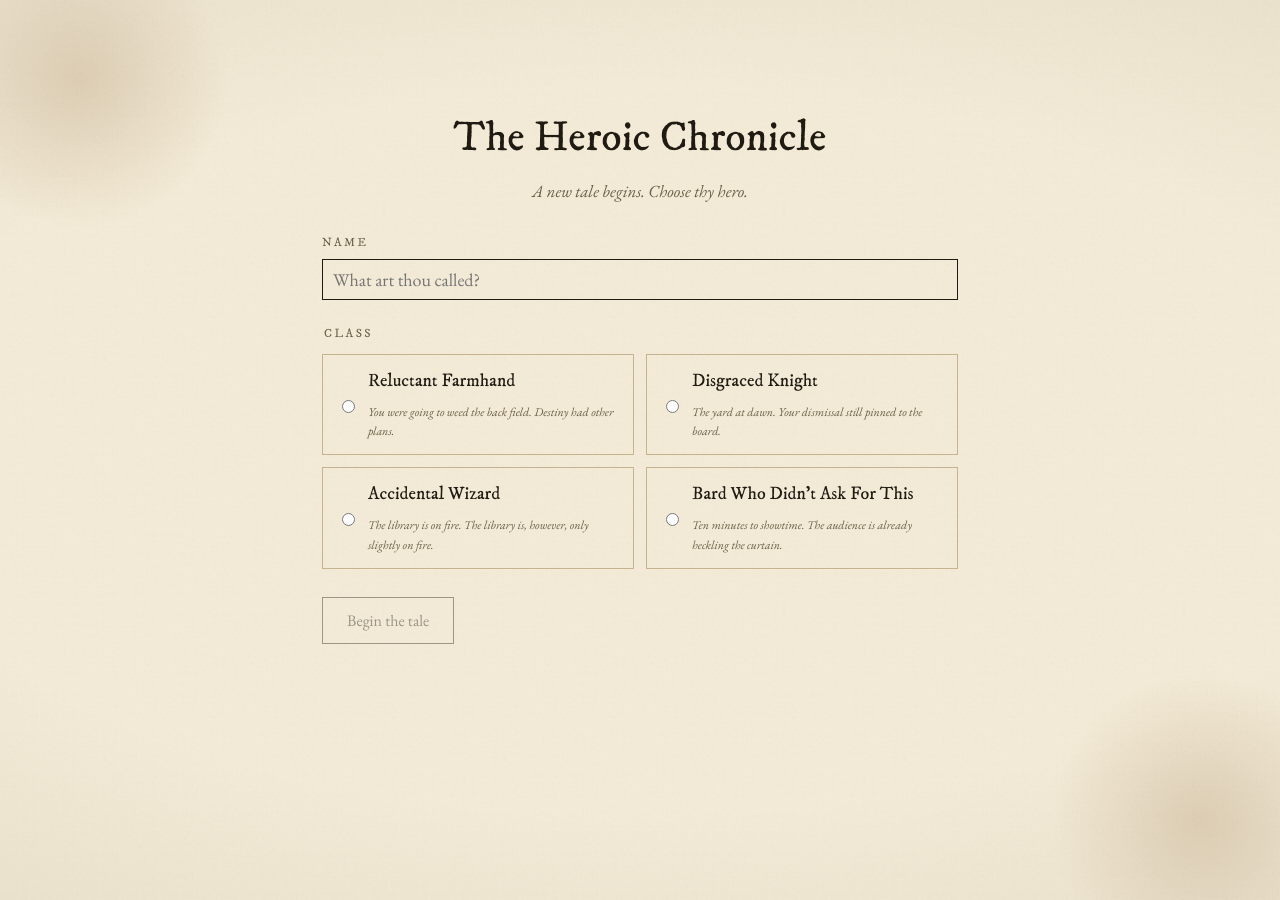
Test: CharacterCreation › start button is disabled until name + class selected
Expected: the button "Begin the tale" is disabled, x1=322 y1=596 x2=454 y2=644
Type "Brendan" into the field labelled "Name" at point(640, 280), box x1=322 y1=259 x2=958 y2=300
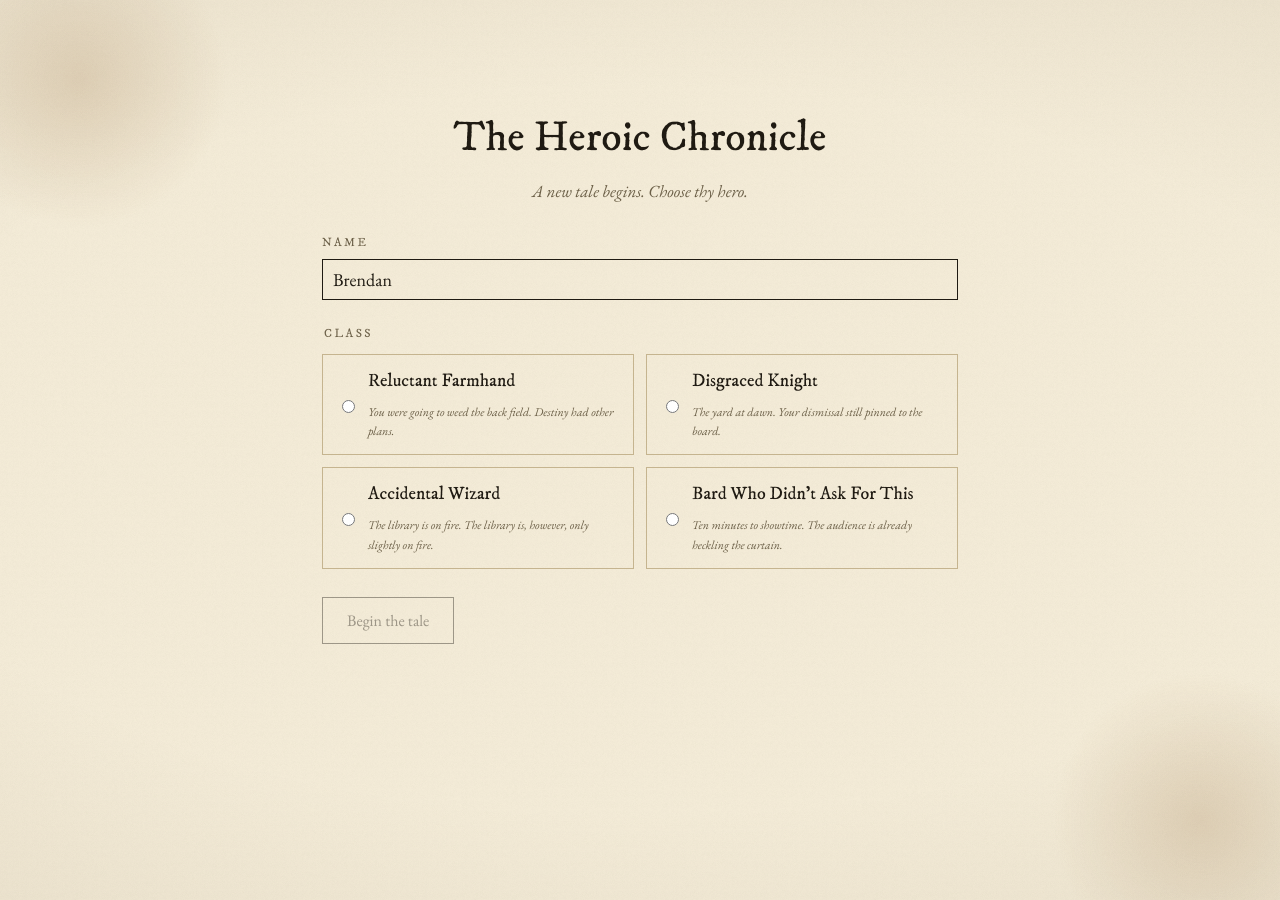
Expected: the button "Begin the tale" is disabled, x1=322 y1=596 x2=454 y2=644
Click the radio button with aria-label "class disgraced knight" at point(672, 406), box x1=666 y1=400 x2=679 y2=413
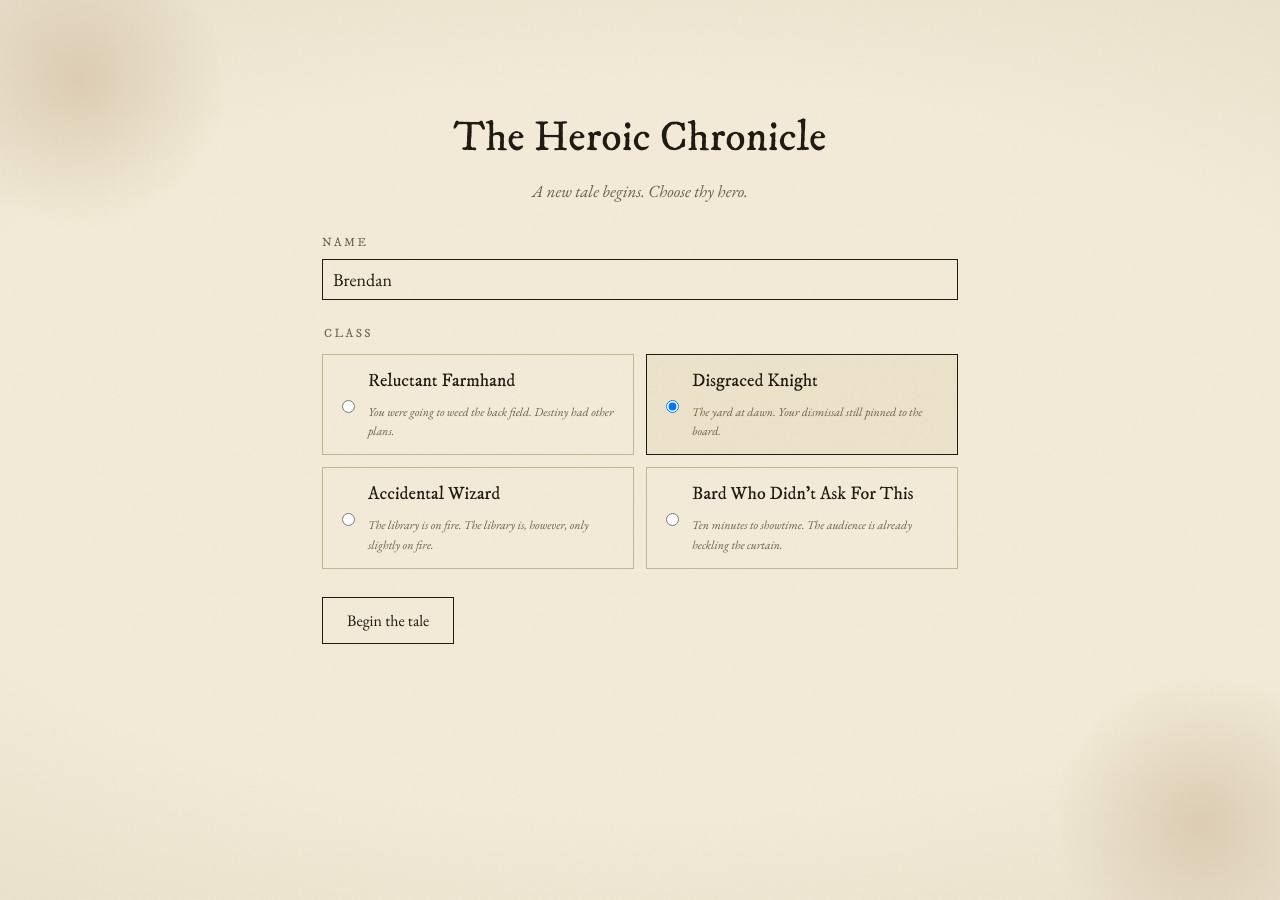
Expected: the button "Begin the tale" is enabled, x1=322 y1=596 x2=454 y2=644
